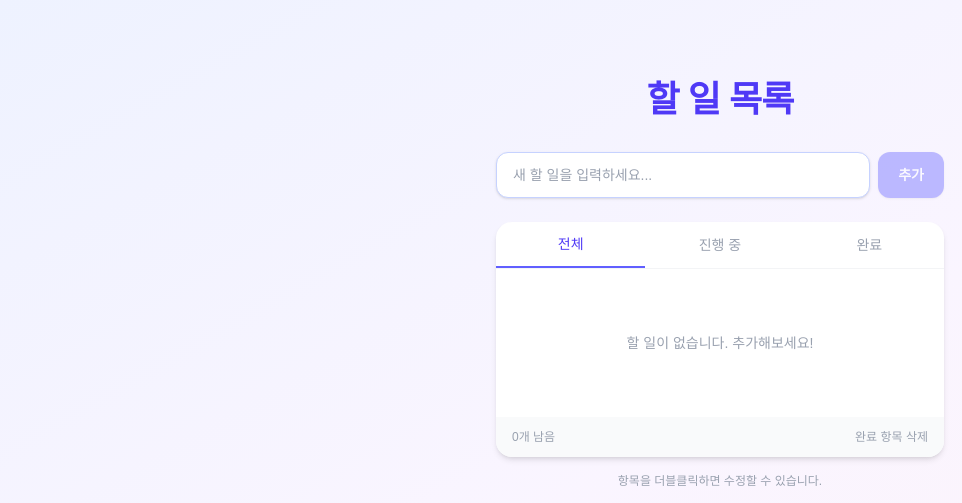
Home 페이지 › 할 일 추가 › 입력 후 추가 버튼 클릭으로 할 일을 추가한다
Type "새 할 일" into the field with placeholder "새 할 일을 입력하세요..." at (683, 175), box [496,152,870,198]
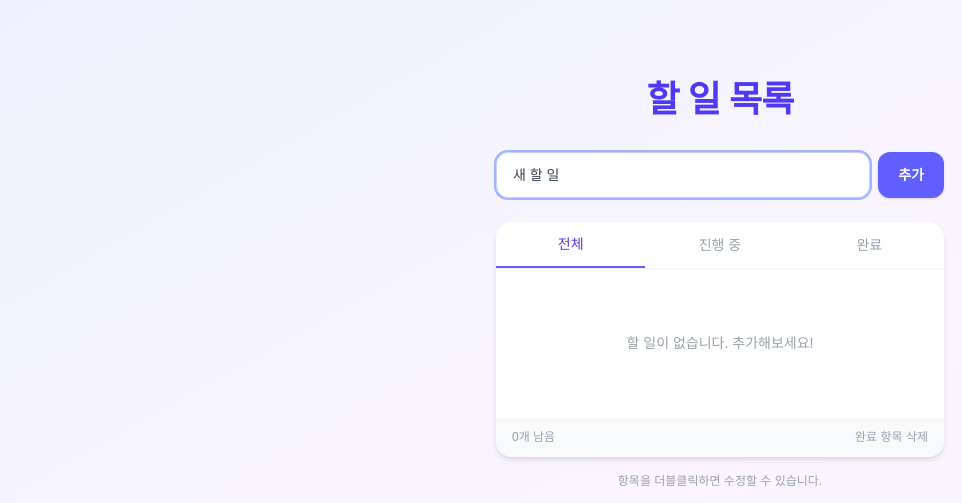
Click the button "추가" at (911, 175), box [878,152,944,198]
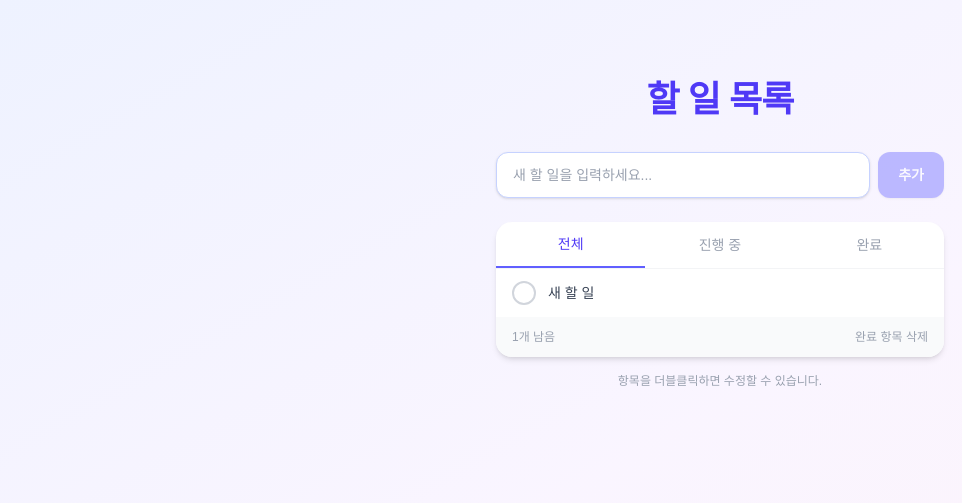
Now the text "새 할 일" is shown, box [548,285,594,301]
